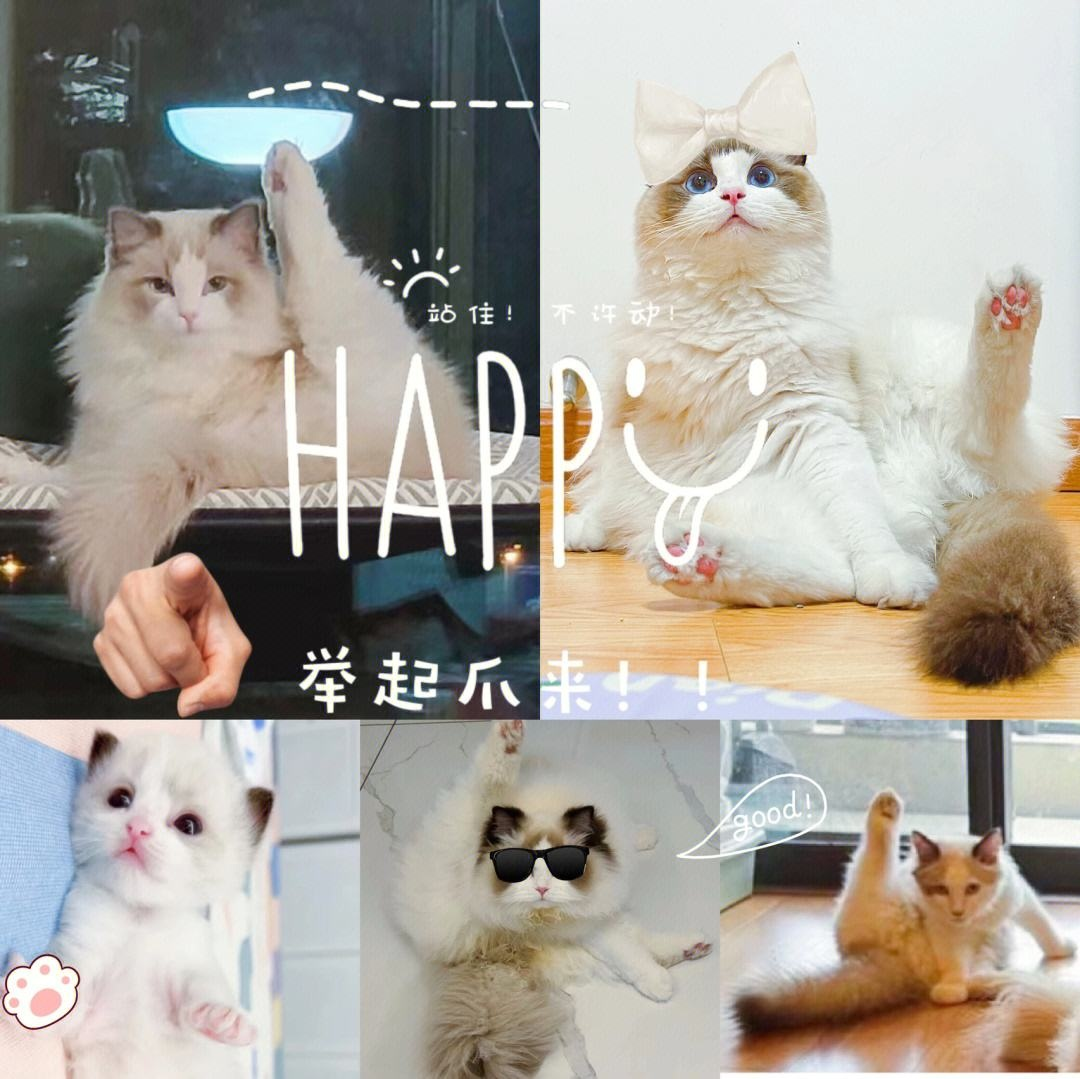cat: (565, 135, 1080, 690), (55, 137, 473, 620), (393, 720, 712, 1079), (37, 729, 277, 1079), (737, 790, 1076, 1036)
